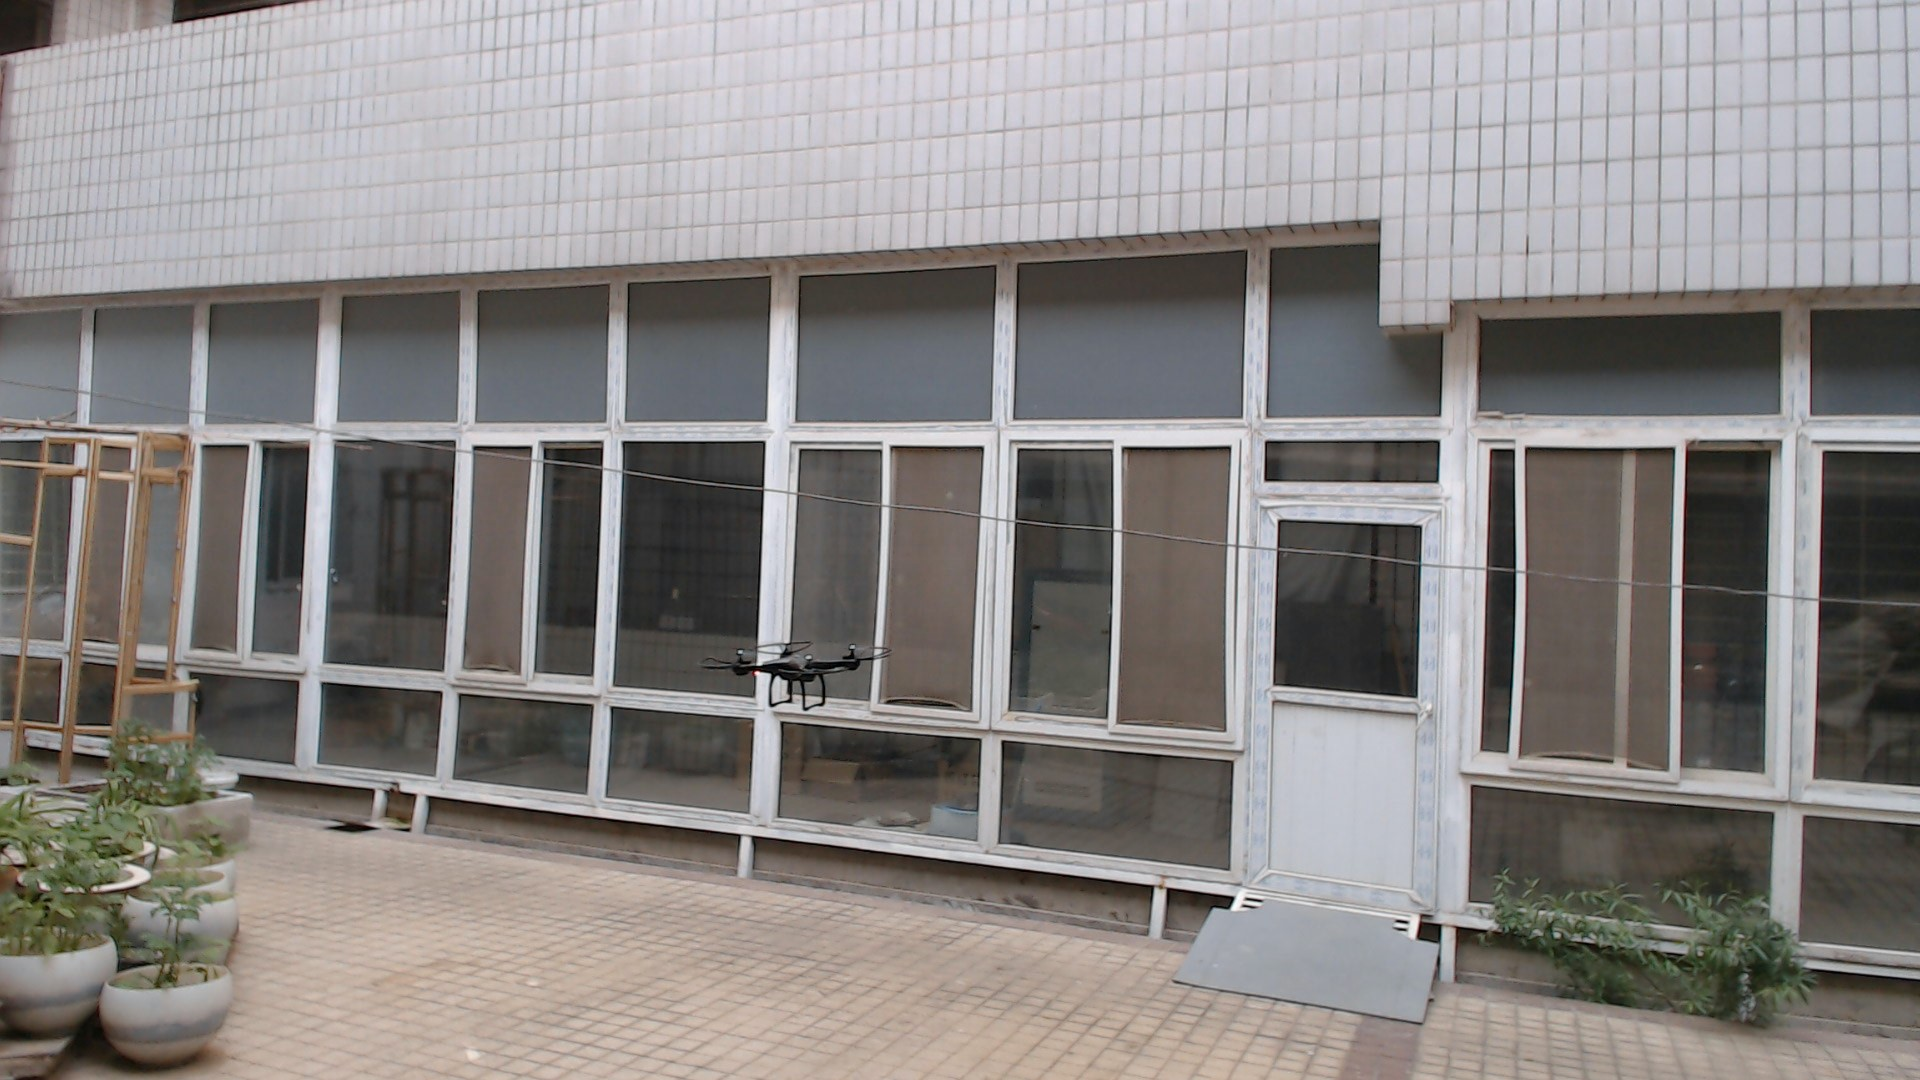drone: (676, 609, 895, 727)
